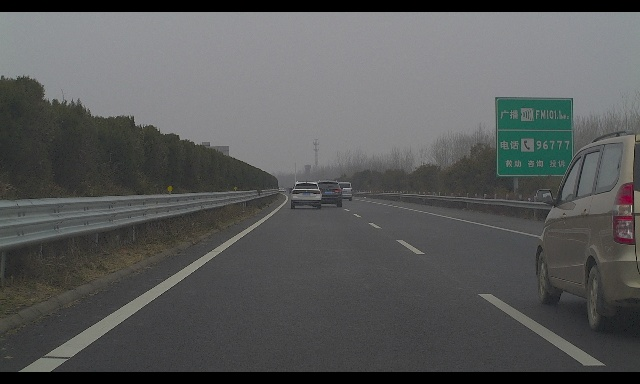car: (535, 130, 640, 332), (289, 181, 323, 209), (314, 180, 343, 207), (334, 182, 352, 201)
